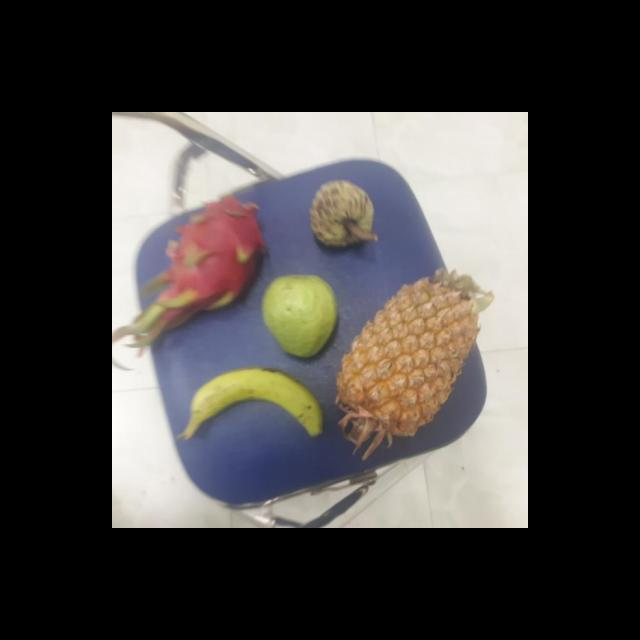Sakya fruit: (306, 181, 374, 250)
banana: (182, 369, 322, 441)
guava: (260, 274, 340, 358)
pineapple: (334, 274, 480, 452)
pitaya: (167, 197, 266, 312)
